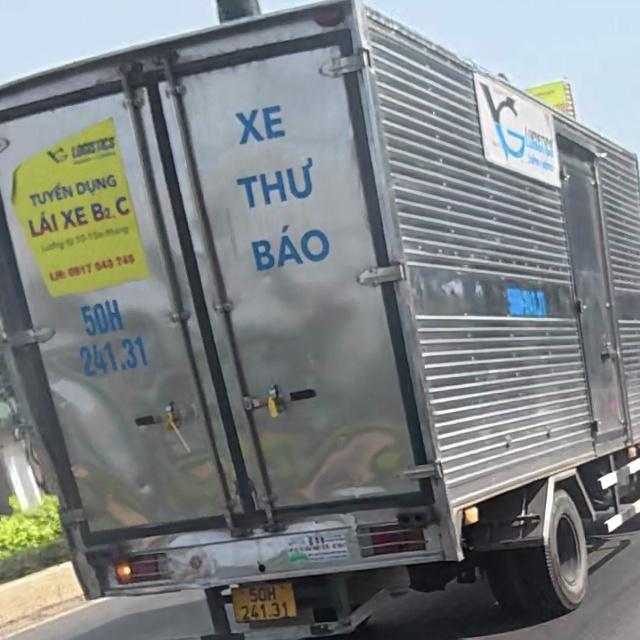license-plate: (231, 583, 296, 623)
